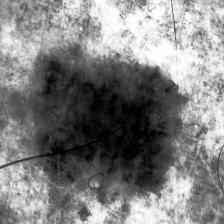Benign Marking or Mole: (33, 54, 186, 196)
